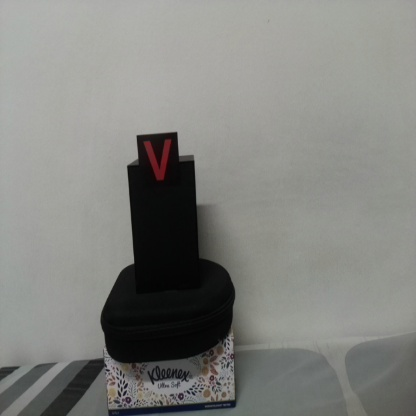id_11: (137, 135, 179, 187)
